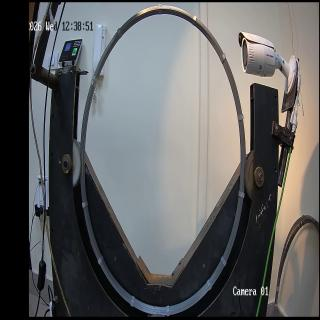clamp: (220, 256, 227, 267), (97, 254, 104, 265), (206, 279, 212, 291), (117, 27, 123, 39), (90, 79, 97, 89), (220, 53, 226, 64), (192, 14, 197, 27), (237, 113, 244, 122), (130, 295, 135, 307), (92, 74, 98, 84), (238, 191, 245, 199), (82, 200, 89, 208), (158, 4, 162, 15), (167, 306, 170, 316)
